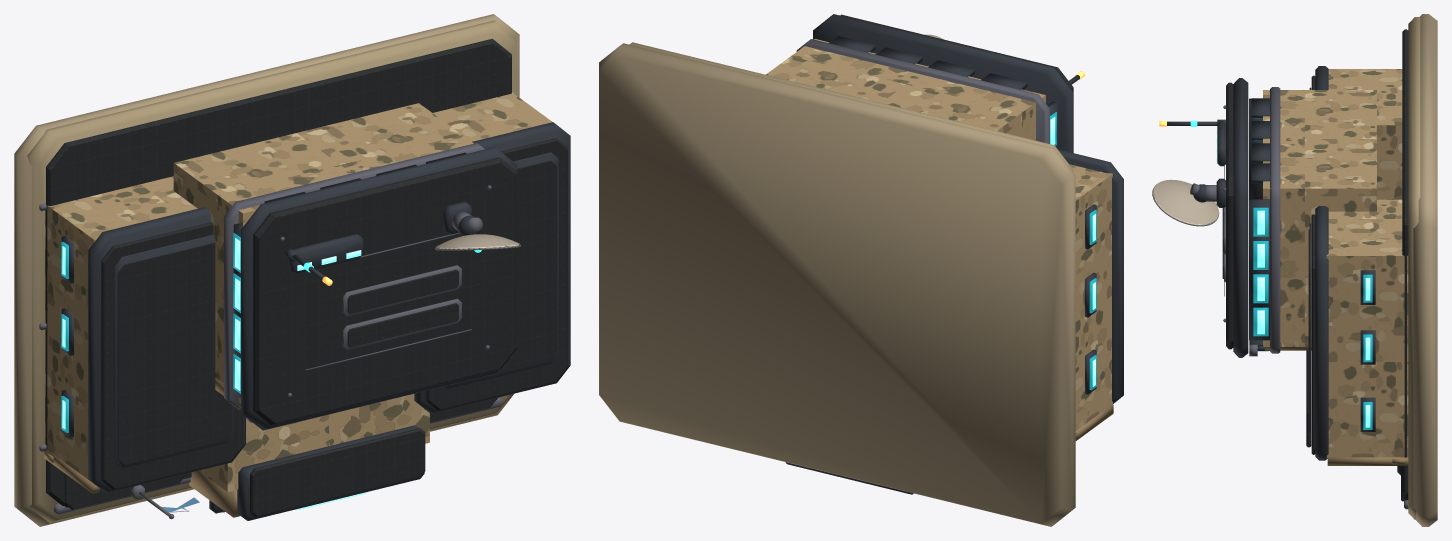
Rendered from sandforge_feldkommando_textured_plus.glb.
3 views of the same model, side by side, from view 1: azimuth 30°, elevation 25°; view 2: azimuth 150°, elevation 25°; view 3: azimuth 270°, elevation 25° (orthographic). The views are drawn at different scales.
Visible parts, largest first — view 1: Graphite_Armored_Roof, Desert_Camouflage_PBR, Graphite_Edge, Tan_Concrete, Shadow_Tan, Gunmetal_Highlights, Warm_Trim, Dark_Trim, Dark_Glass, Glass_Cyan, DISH_Shadow_Tan, DISH_Dark_Trim (+1 smaller); view 2: Shadow_Tan, Desert_Camouflage_PBR, Graphite_Edge, Gunmetal_Highlights, Dark_Trim, Tan_Concrete, Dark_Glass, Graphite_Armored_Roof; view 3: Desert_Camouflage_PBR, Shadow_Tan, Graphite_Edge, Graphite_Armored_Roof, Tan_Concrete, Gunmetal_Highlights, Dark_Trim, Black_Recess, Dark_Glass, DISH_Shadow_Tan, Glass_Cyan, Warm_Trim (+2 smaller).
Boxes of the visible parts, x1,y1,x2,y2 form: Graphite_Armored_Roof: (46,38,567,516); Desert_Camouflage_PBR: (45,92,552,491); Graphite_Edge: (88,122,570,520); Tan_Concrete: (27,20,516,522); Shadow_Tan: (14,14,519,526); Gunmetal_Highlights: (39,143,502,514); Warm_Trim: (44,377,240,517); Dark_Trim: (61,152,466,437); Dark_Glass: (61,233,240,432); Glass_Cyan: (62,238,240,429); DISH_Shadow_Tan: (436,234,519,247); DISH_Dark_Trim: (443,201,479,235); Shadow_Tan: (599,43,1075,526); Desert_Camouflage_PBR: (766,39,1112,430); Graphite_Edge: (785,14,1123,494); Gunmetal_Highlights: (796,39,1049,143); Dark_Trim: (829,36,1096,394); Tan_Concrete: (629,42,1073,171); Dark_Glass: (1050,112,1096,390); Graphite_Armored_Roof: (840,14,1073,152); Desert_Camouflage_PBR: (1263,69,1408,458); Shadow_Tan: (1413,14,1437,526); Graphite_Edge: (1217,66,1400,475); Graphite_Armored_Roof: (1222,29,1408,501); Tan_Concrete: (1408,17,1420,519); Gunmetal_Highlights: (1224,87,1408,509); Dark_Trim: (1251,98,1375,431); Black_Recess: (1249,98,1269,346); Dark_Glass: (1253,118,1372,429); DISH_Shadow_Tan: (1153,179,1218,224); Glass_Cyan: (1257,210,1370,427); Warm_Trim: (1265,340,1408,465).
Bounding box in the file's own units: 10.8 × 8.54 × 6.46.
Materials: 29 (22 with a texture image).
